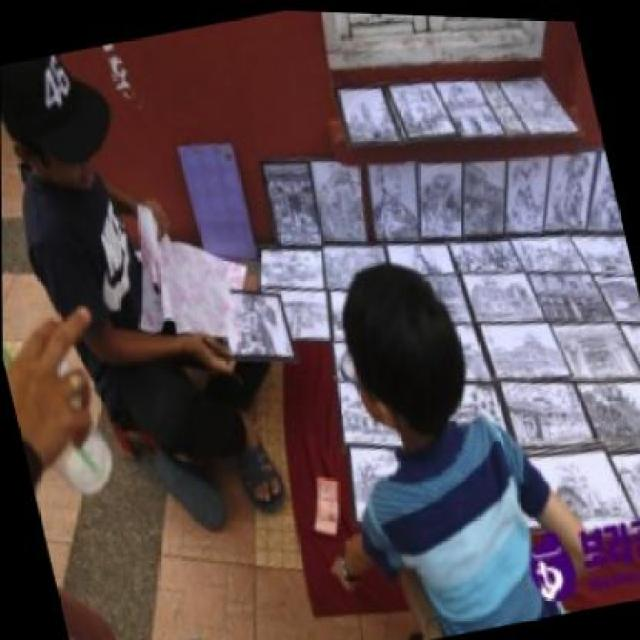hat: (0, 43, 123, 180)
